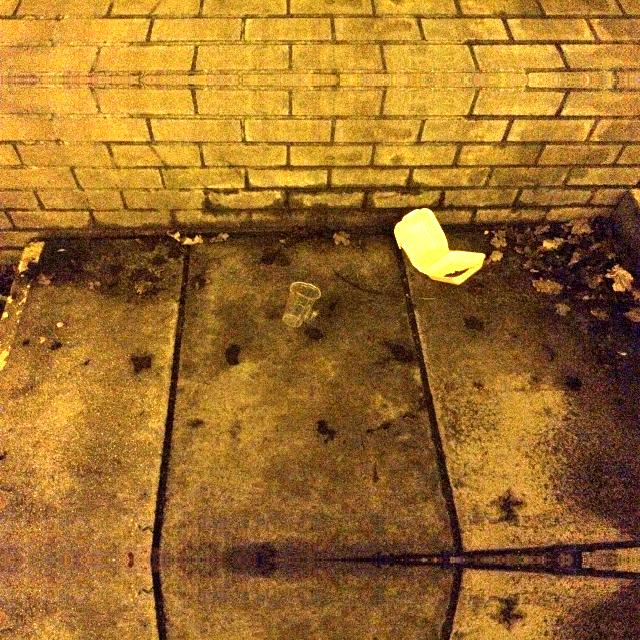Plastic: (392, 205, 486, 288), (279, 278, 323, 330)
